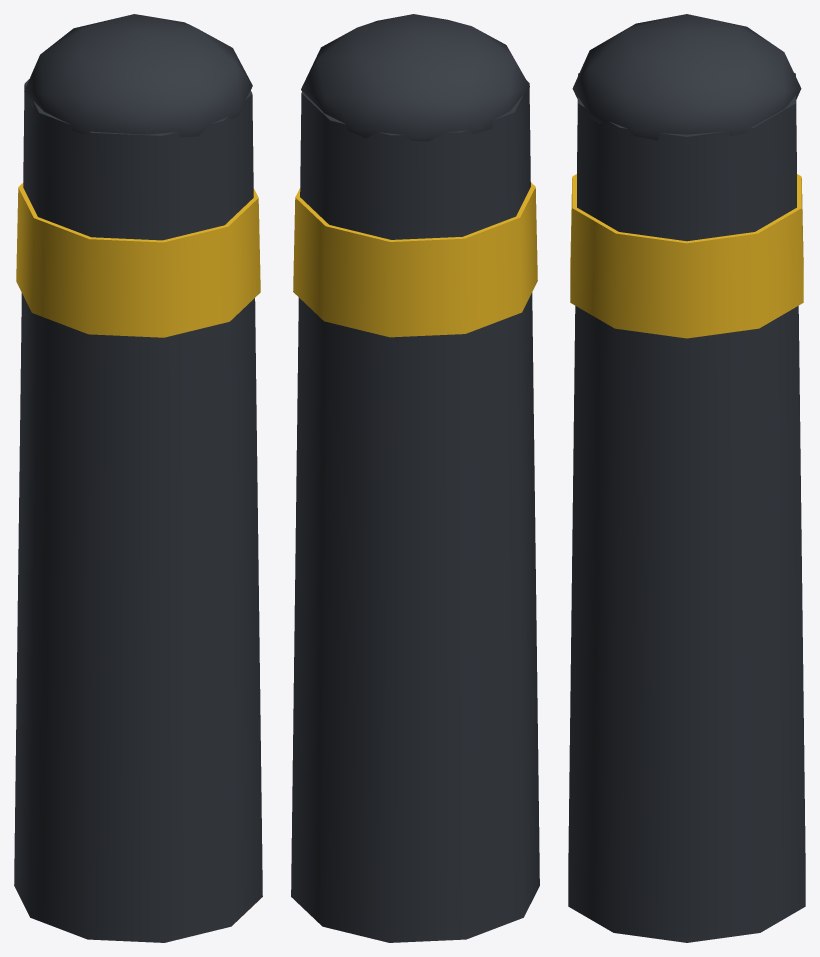
The model's file is bollard.glb.
3 views of the same model, side by side, from view 1: azimuth 30°, elevation 25°; view 2: azimuth 150°, elevation 25°; view 3: azimuth 270°, elevation 25° (orthographic).
Parts seen in each view (by area): view 1: PROP_bollard; view 2: PROP_bollard; view 3: PROP_bollard.
Part boxes in pixels (x1,y1,x2,y2): PROP_bollard: (14,14,262,942); PROP_bollard: (291,14,539,942); PROP_bollard: (568,14,805,942).
Size of the model in its own units: 0.24 by 0.9105 by 0.2283.
